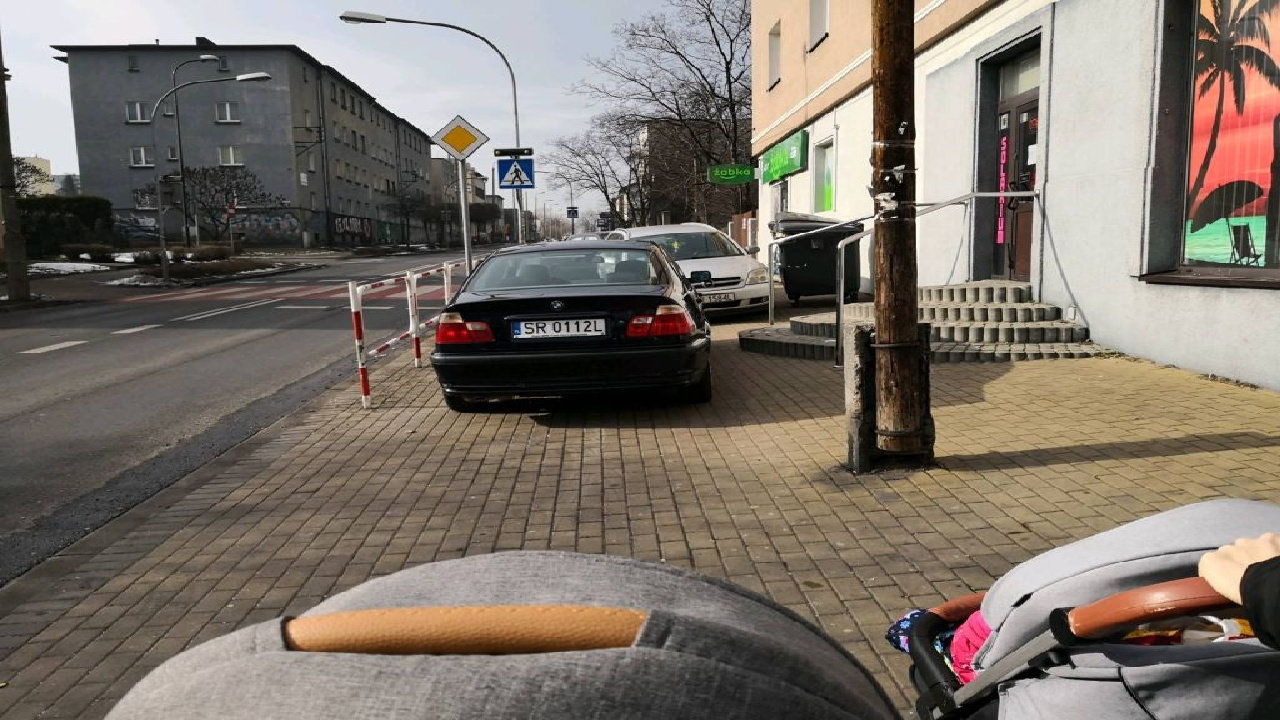D1: (427, 107, 493, 158)
D6: (493, 157, 537, 189)
